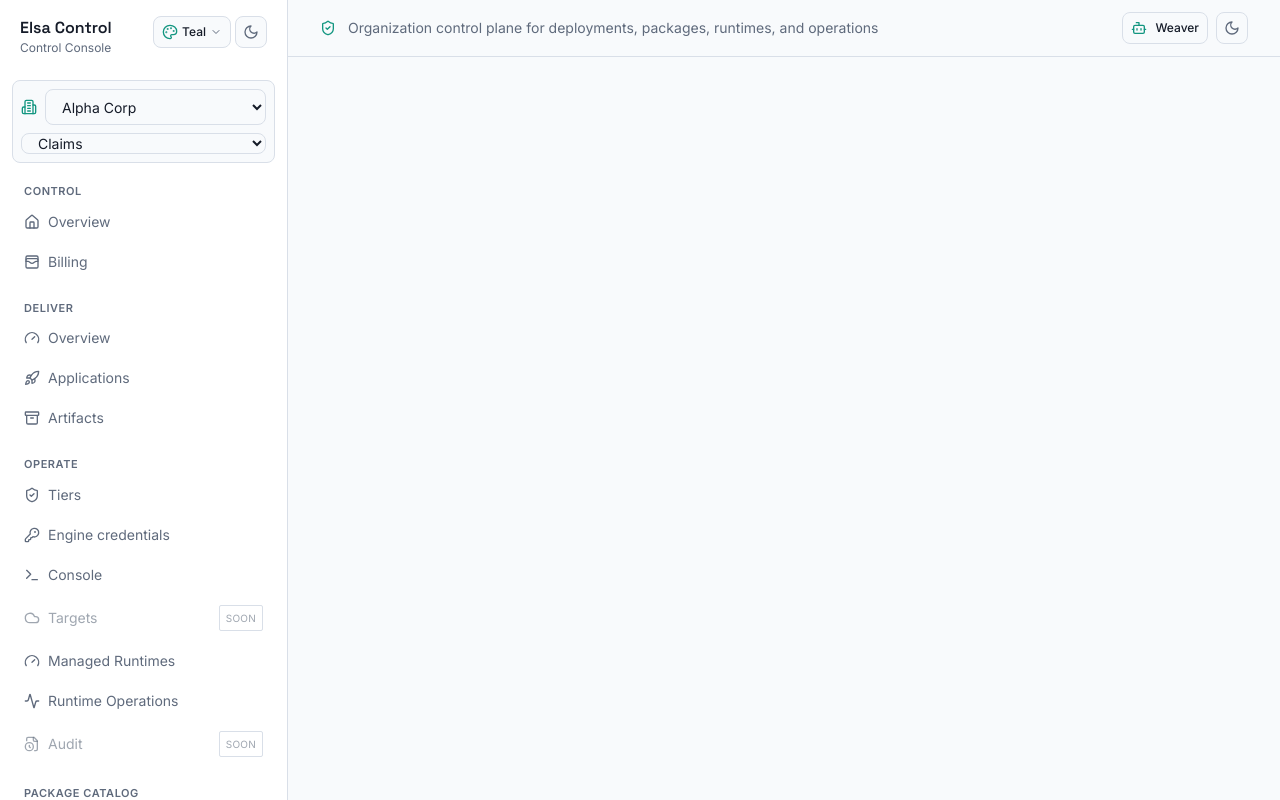
Test: AppShell › keeps workspace choices scoped to the selected organization
Expected: the dropdown named "Workspace" shows "Claims", [21,133,266,154]
Select "Beta Labs" in the dropdown named "Organization" at [156, 107], box [45,89,266,125]
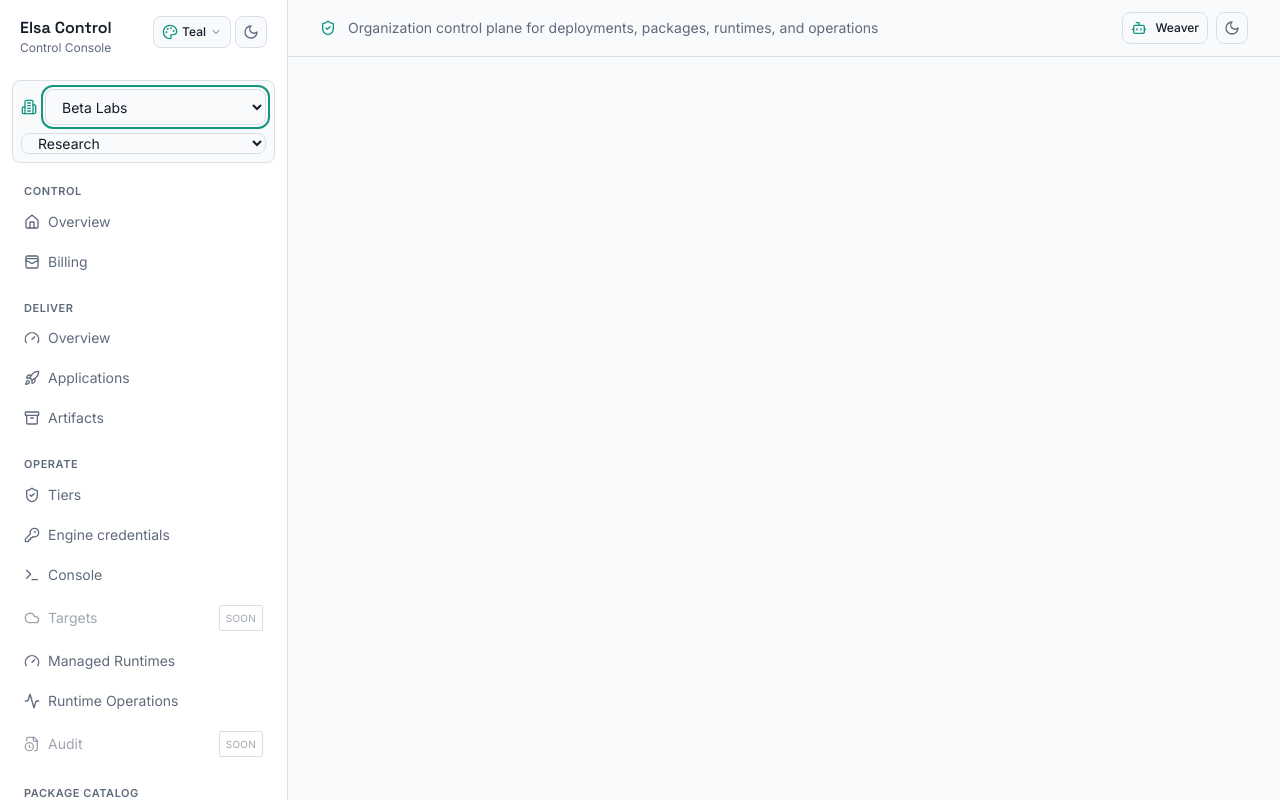
Expected: the option "Claims" is not shown
Expected: the dropdown named "Workspace" shows "Research", [21,133,266,154]
